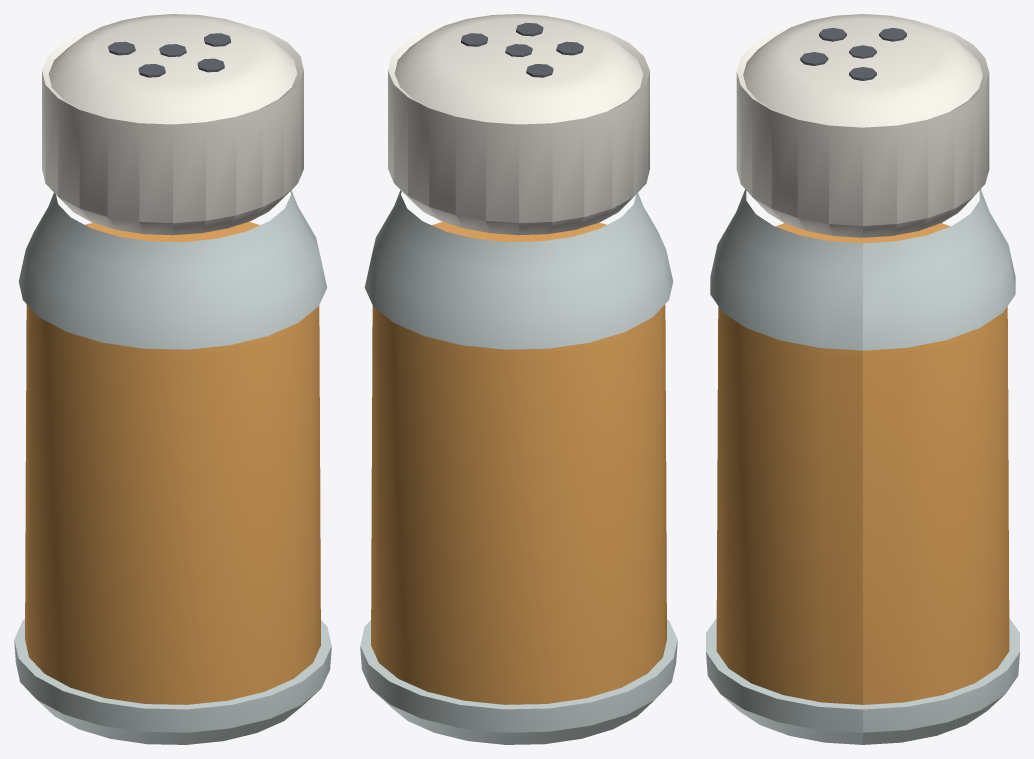
The model's file is fresh-produce-and-groceries-spice-jar-a3ca22f5__24438.glb.
3 views of the same model, side by side, from view 1: azimuth 30°, elevation 25°; view 2: azimuth 150°, elevation 25°; view 3: azimuth 270°, elevation 25° (orthographic).
Visible parts, largest first — view 1: spice-jar; view 2: spice-jar; view 3: spice-jar.
Boxes of the visible parts, x1,y1,x2,y2 form: spice-jar: [14, 14, 331, 744]; spice-jar: [360, 14, 677, 744]; spice-jar: [706, 14, 1019, 744].
Size of the model in its own units: 0.0384 by 0.085 by 0.038.
